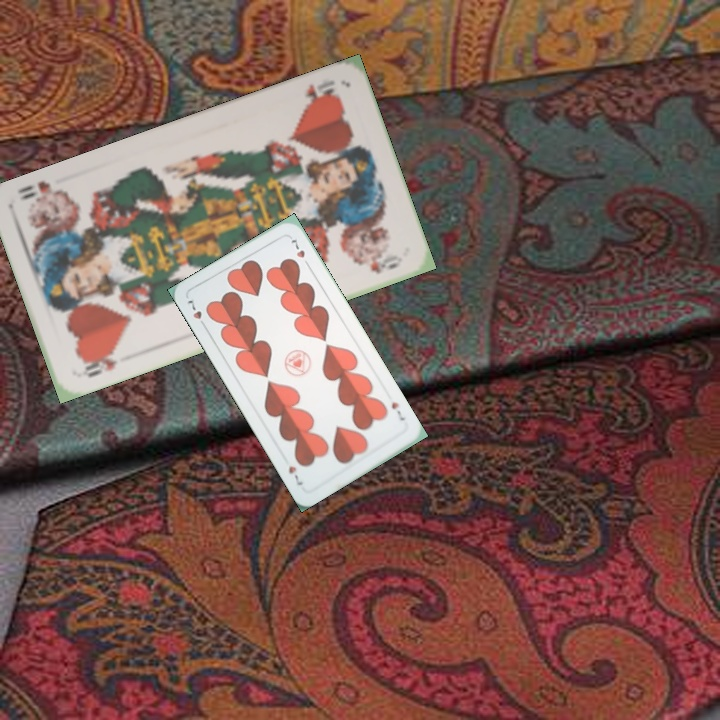H7: (183, 296, 209, 331), (387, 398, 409, 424)
HO: (79, 347, 121, 380), (300, 76, 341, 109)
